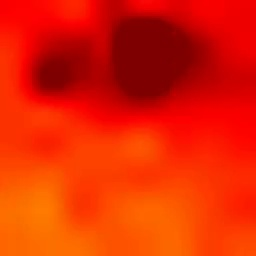person: (42, 20, 193, 96)
